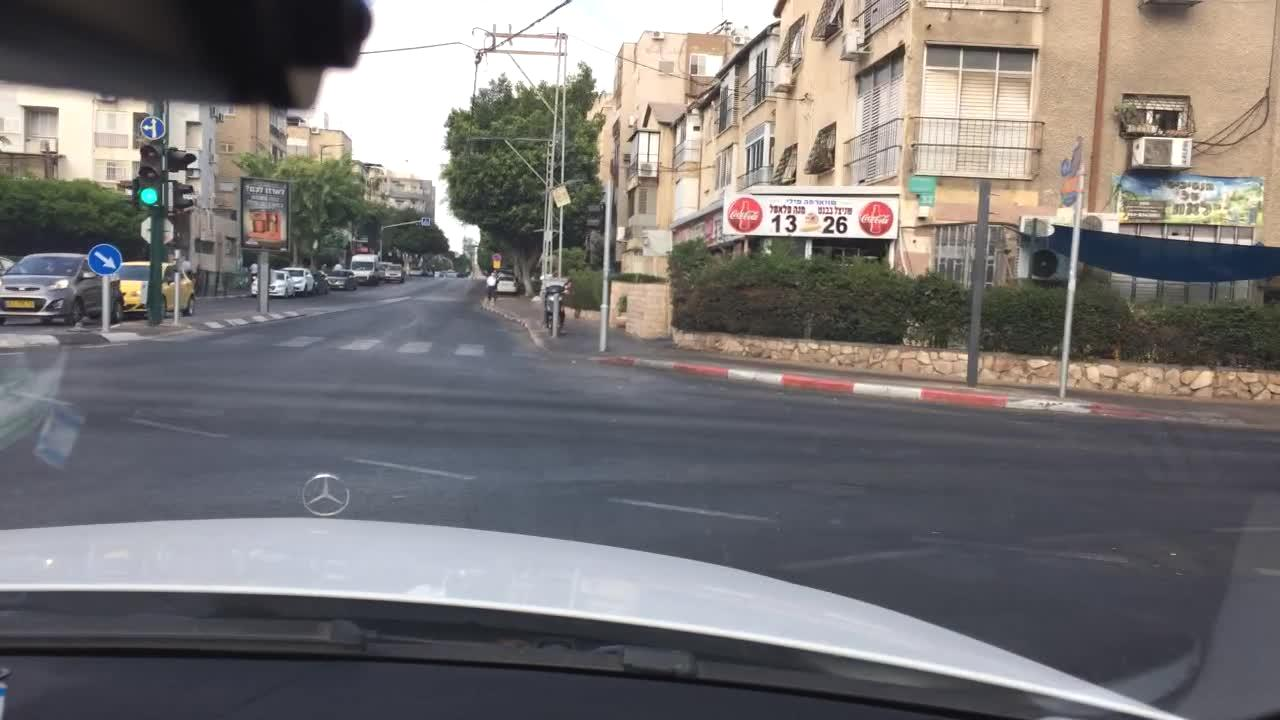Mercedes: (297, 467, 355, 520)
